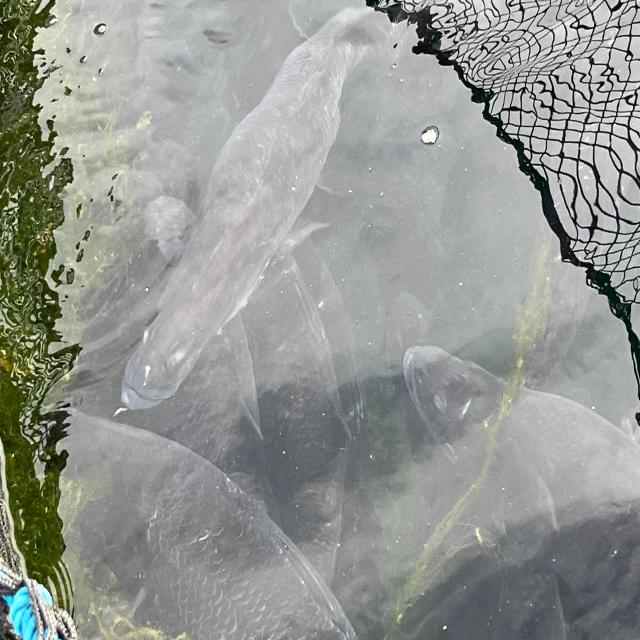ikan: (101, 38, 354, 420), (388, 301, 564, 512)
